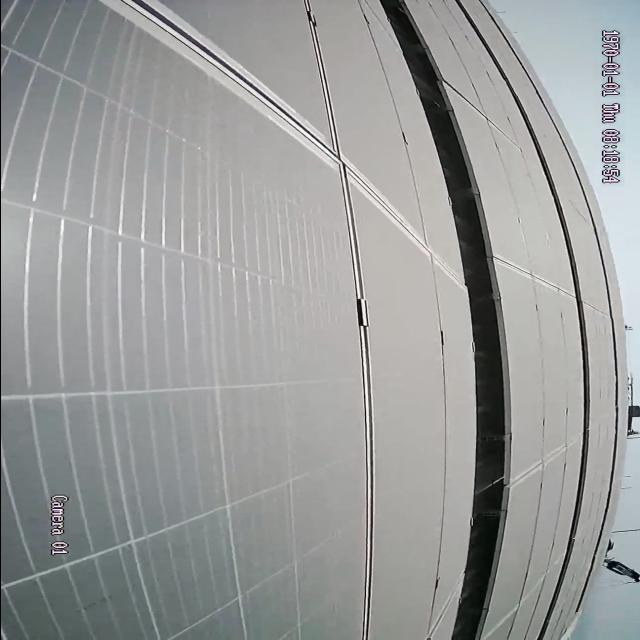interior panel: (108, 0, 455, 639), (450, 85, 511, 140), (517, 437, 571, 487), (501, 256, 565, 294)
outher panel: (379, 3, 506, 639)
